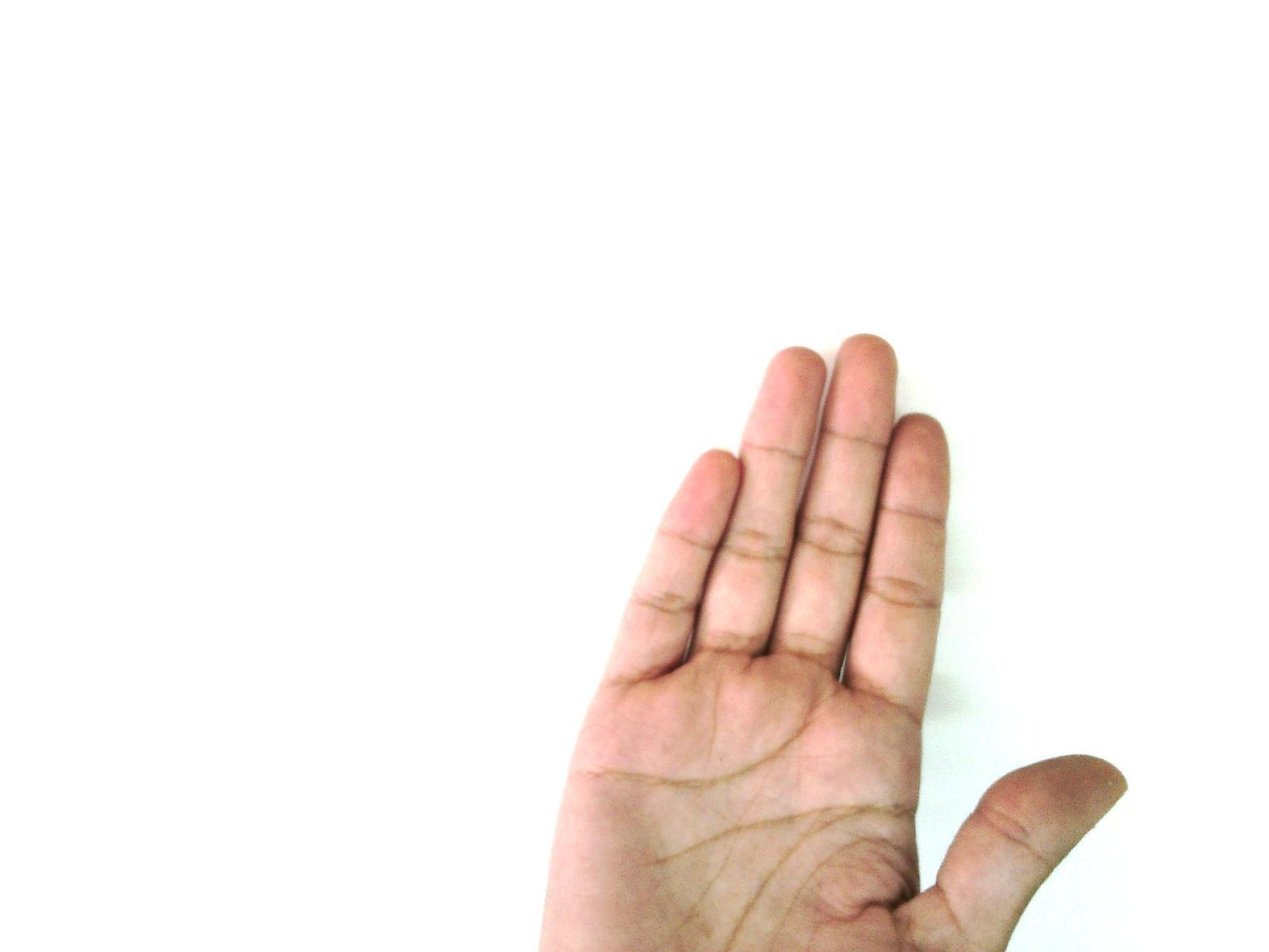open_palm: (535, 332, 1130, 951)
